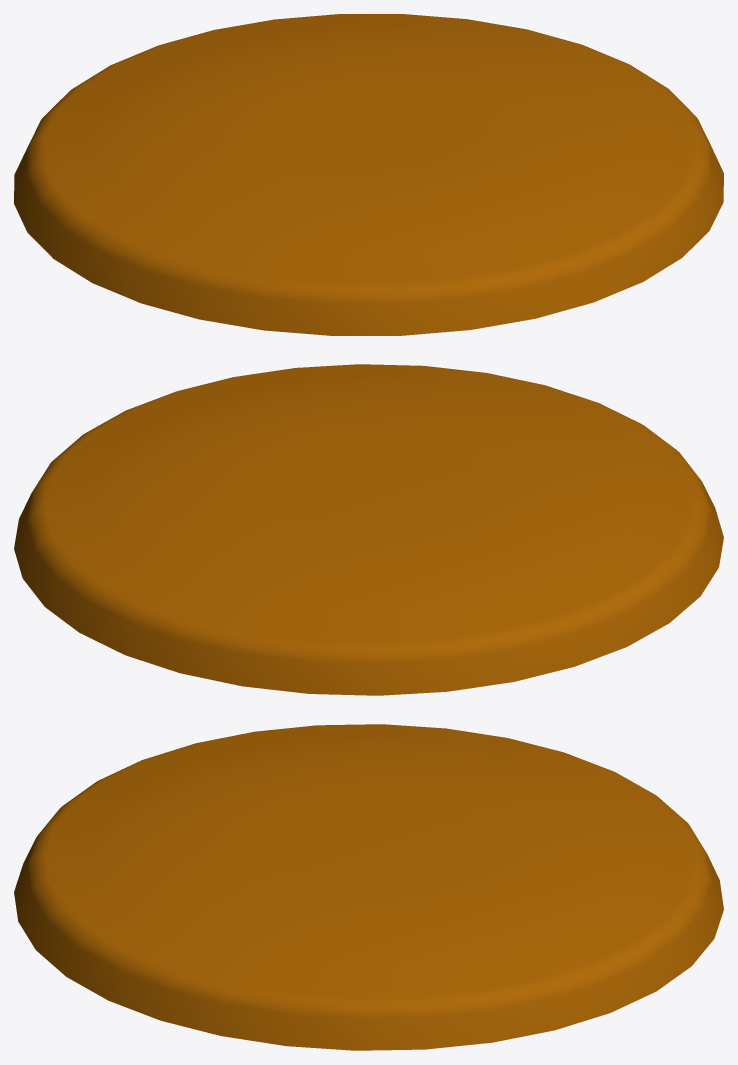
The model's file is Compass-Cover3.glb.
3 views of the same model, one above another, from view 1: azimuth 30°, elevation 25°; view 2: azimuth 150°, elevation 25°; view 3: azimuth 270°, elevation 25° (orthographic).
Visible parts, largest first — view 1: Cylinder.006; view 2: Cylinder.006; view 3: Cylinder.006.
Boxes of the visible parts, <box> form: Cylinder.006: <box>14,14,723,335</box>; Cylinder.006: <box>14,364,723,695</box>; Cylinder.006: <box>14,724,723,1050</box>.
Size of the model in its own units: 2.47 by 0.2593 by 2.47.
